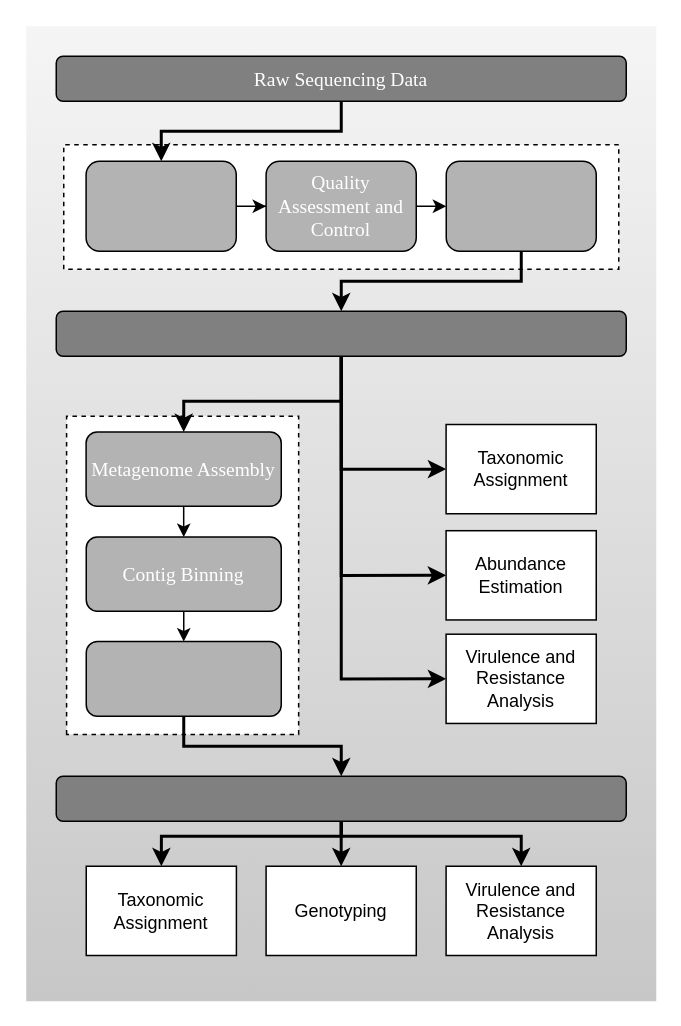
Some shapes in this 681 by 1026 pixel diagram are drawn without their labels. The box of each missing label's shape, as (x1, y1, x2, y2) in pixels:
Adaptor Trimming: (445, 160, 596, 251)
Completeness and Contamination Validation: (85, 640, 281, 716)
Quality Controlled Reads: (55, 310, 626, 356)
Reconstructed Metagenomic Genomes: (55, 775, 626, 821)
Removal of Host Sequences: (85, 160, 236, 251)
